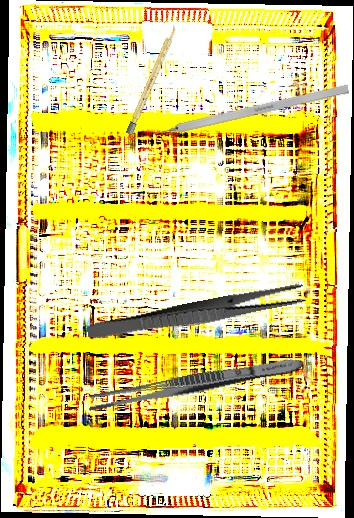Dressing Forceps: (85, 281, 307, 346), (86, 352, 305, 415)
Hook Surgical: (135, 83, 350, 143)
Scalpel Handle: (125, 23, 179, 136)
